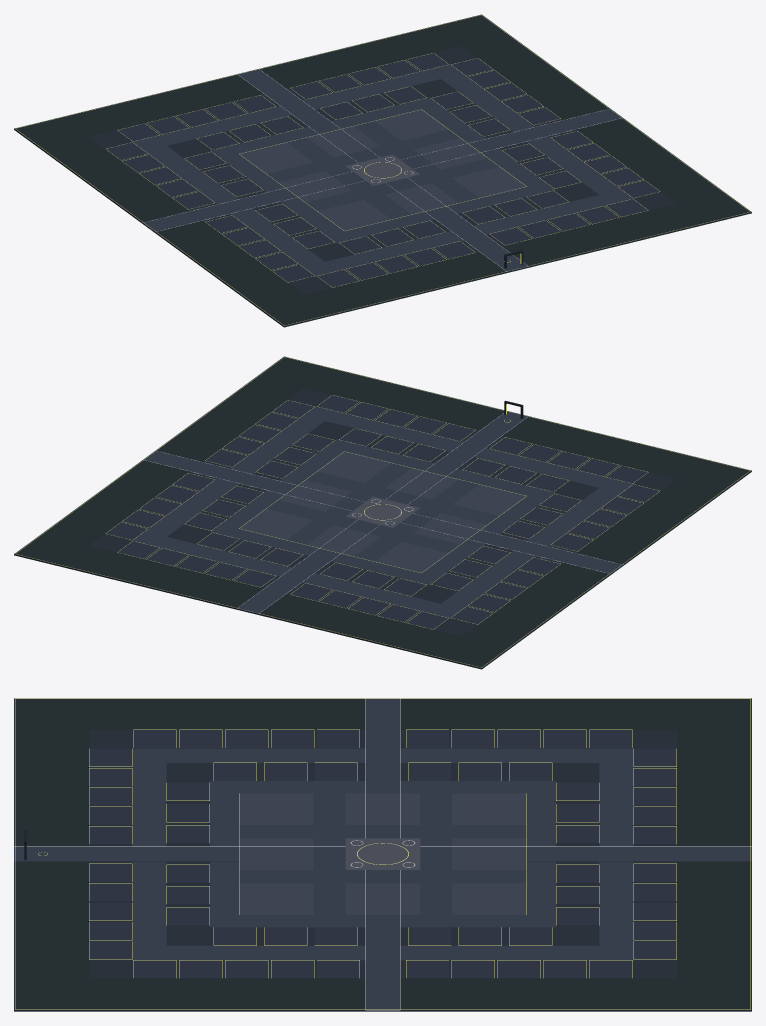
The picture shows the model from 3 angles, top to bottom: view 1: azimuth 30°, elevation 25°; view 2: azimuth 150°, elevation 25°; view 3: azimuth 270°, elevation 25°; orthographic projection. The views are drawn at different scales.
Visible parts, largest first — view 1: district_taller.lod1; view 2: district_taller.lod1; view 3: district_taller.lod1.
Boxes of the visible parts, left/top/right/bottom form: district_taller.lod1: left=14, top=14, right=751, bottom=327; district_taller.lod1: left=14, top=356, right=751, bottom=669; district_taller.lod1: left=14, top=698, right=751, bottom=1011.
Bounding box in the file's own units: 256 × 7.62 × 256.
